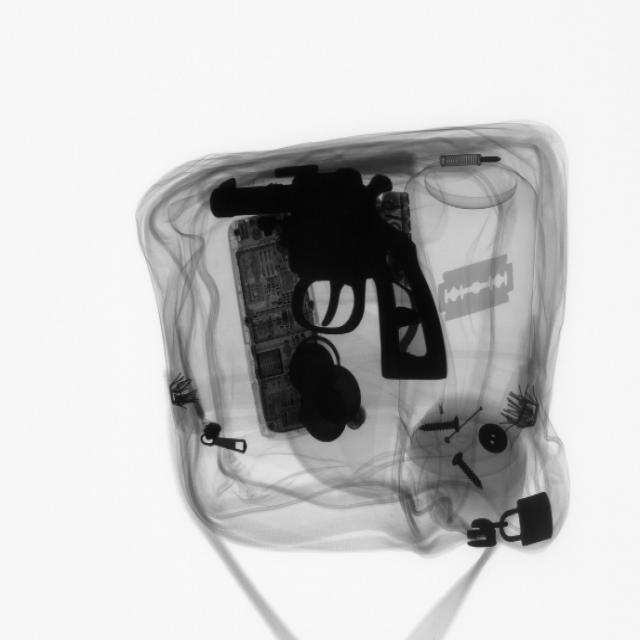BLADE: (433, 251, 519, 328)
GUN: (205, 166, 447, 387)
SCREW: (406, 410, 471, 448), (446, 446, 489, 500)
